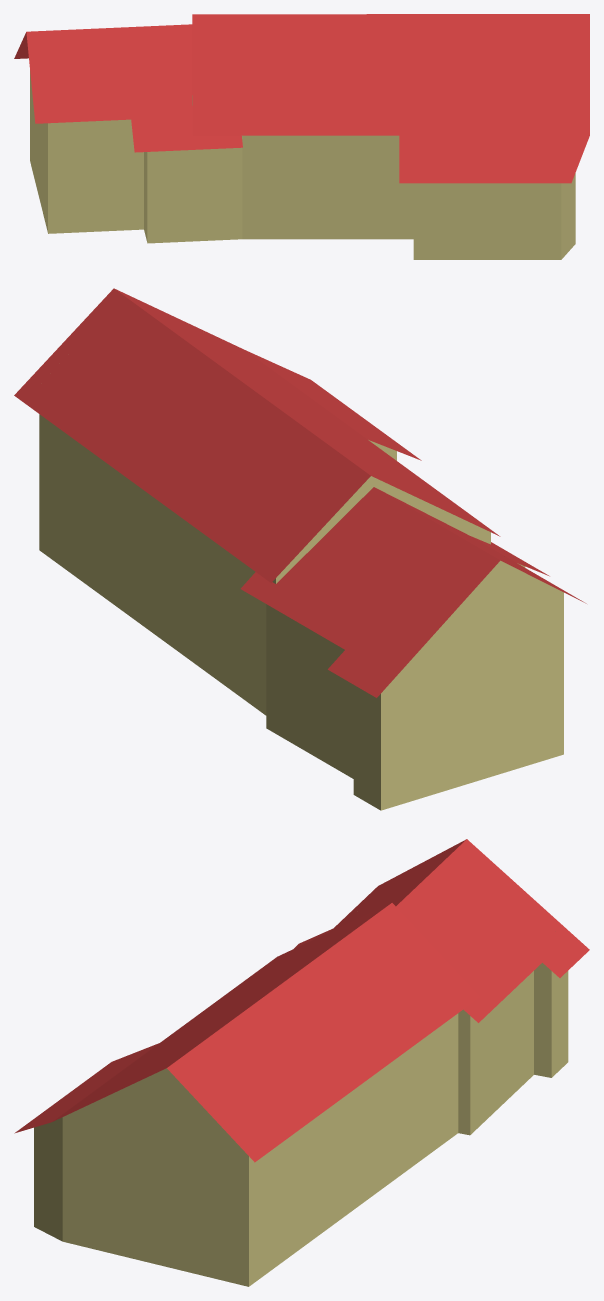
The picture shows the model from 3 angles, top to bottom: view 1: azimuth 30°, elevation 25°; view 2: azimuth 150°, elevation 25°; view 3: azimuth 270°, elevation 25°; orthographic projection. The views are drawn at different scales.
Bounding box in the file's own units: 40.09 × 35.15 × 13.93.
